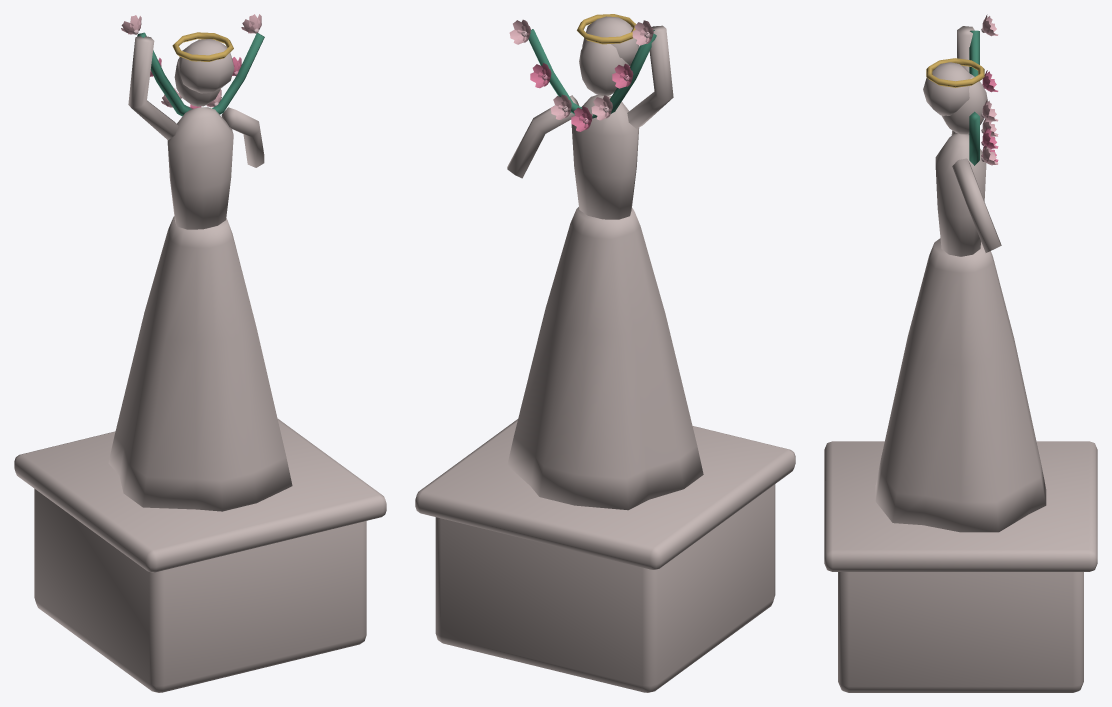
The model's file is statue_maiden.glb.
The picture shows the model from 3 angles, left to right: view 1: azimuth 30°, elevation 25°; view 2: azimuth 150°, elevation 25°; view 3: azimuth 270°, elevation 25°; orthographic projection. The views are drawn at different scales.
Parts seen in each view (by area): view 1: statue_maiden; view 2: statue_maiden; view 3: statue_maiden.
Part boxes in pixels (x1,y1,x2,y2): statue_maiden: [14, 14, 386, 692]; statue_maiden: [415, 14, 795, 692]; statue_maiden: [824, 14, 1097, 692].
Size of what is drawn, in the model's own units: 0.9 by 2.2 by 0.9.
